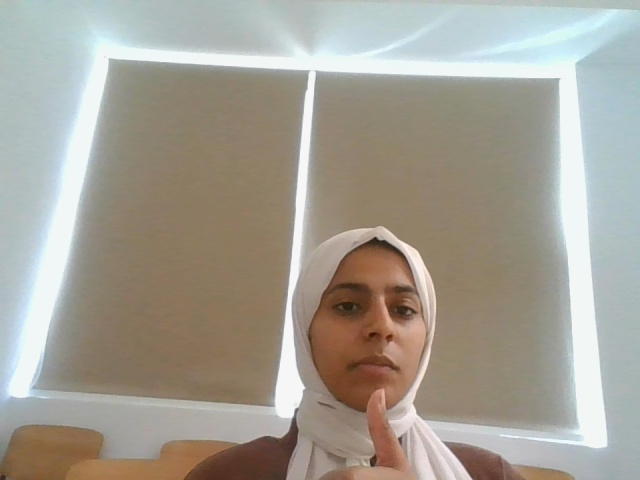help: (303, 385, 440, 480)
